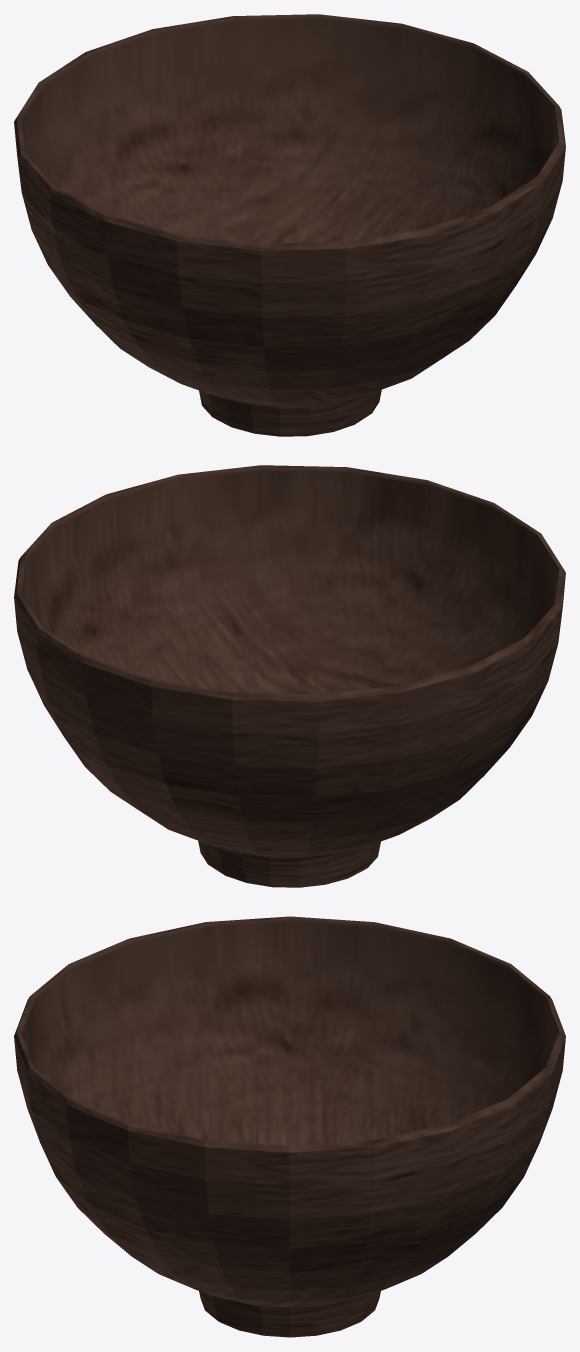
The model's file is bowl_wood.fbx.
3 views of the same model, one above another, from view 1: azimuth 30°, elevation 25°; view 2: azimuth 150°, elevation 25°; view 3: azimuth 270°, elevation 25° (orthographic).
Parts seen in each view (by area): view 1: bowl_lo; view 2: bowl_lo; view 3: bowl_lo.
Boxes of the visible parts, x1,y1,x2,y2 form: bowl_lo: [14, 14, 565, 436]; bowl_lo: [14, 465, 565, 887]; bowl_lo: [14, 916, 565, 1337].
Bounding box in the file's own units: 22.78 × 12.25 × 22.78.
Materials: 1 (1 with a texture image).
